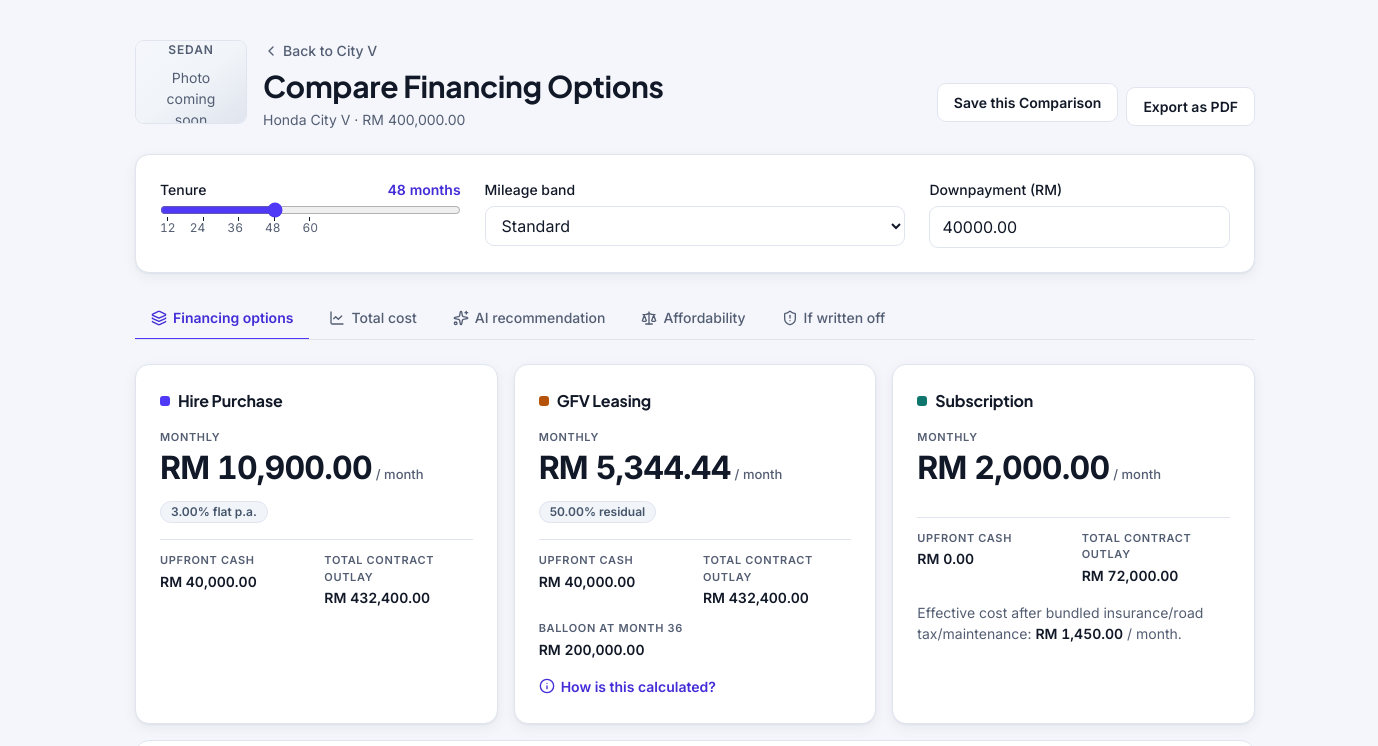
ComparisonPage › AI Recommendation tab › renders pathways in ranking order with scores/DSR badges and highlights the recommended one
Click the tab "AI recommendation" at {"x": 529, "y": 318}, box [437,297,622,340]
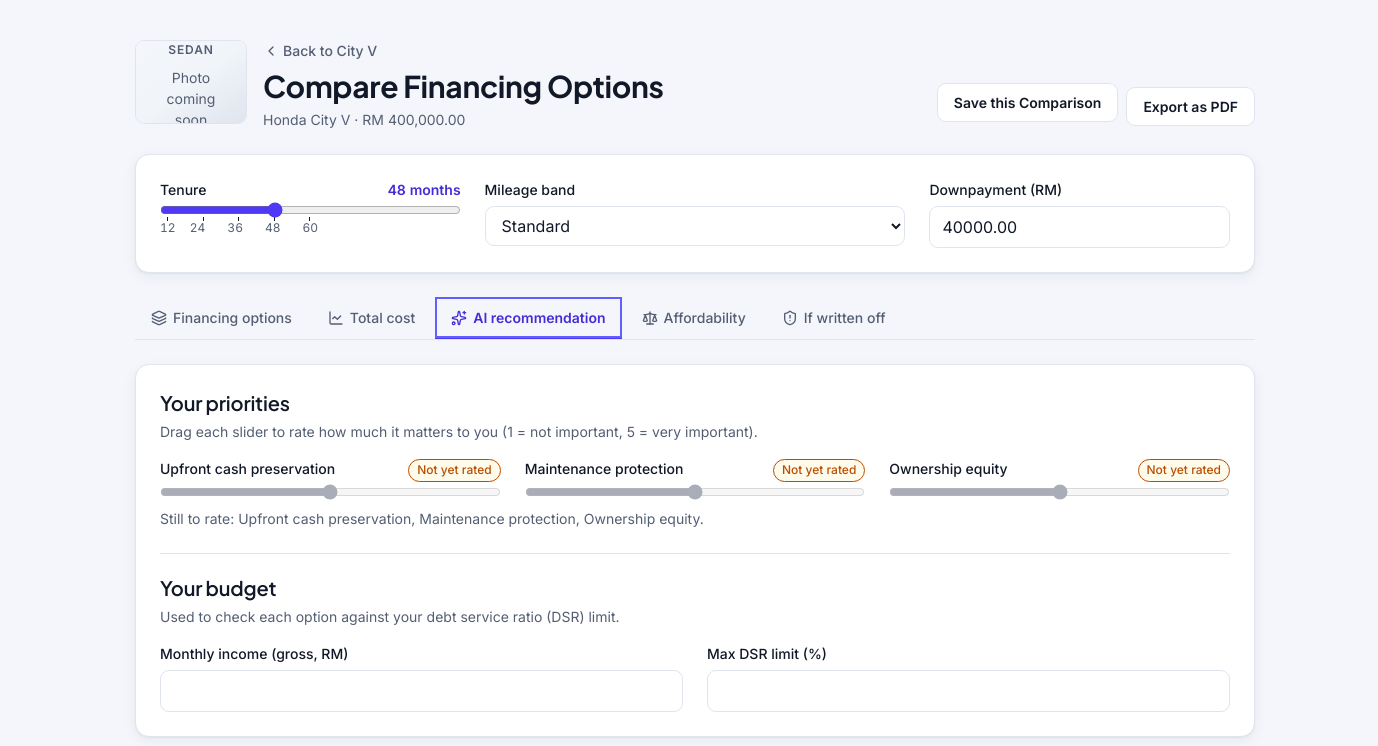
Set the slider labelled "Upfront cash preservation" to "5" at {"x": 493, "y": 492}, box [160,488,501,496]
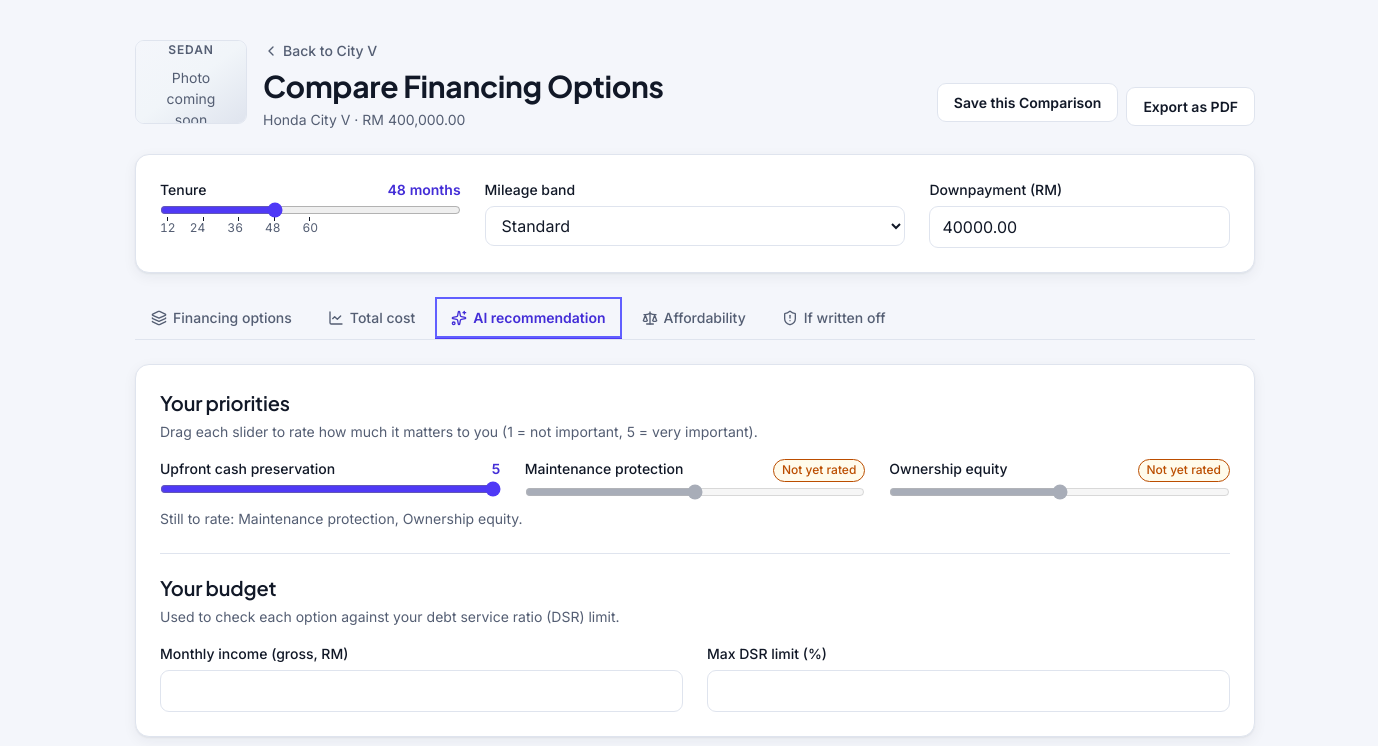
Set the slider labelled "Maintenance protection" to "4" at {"x": 776, "y": 492}, box [525,488,865,496]
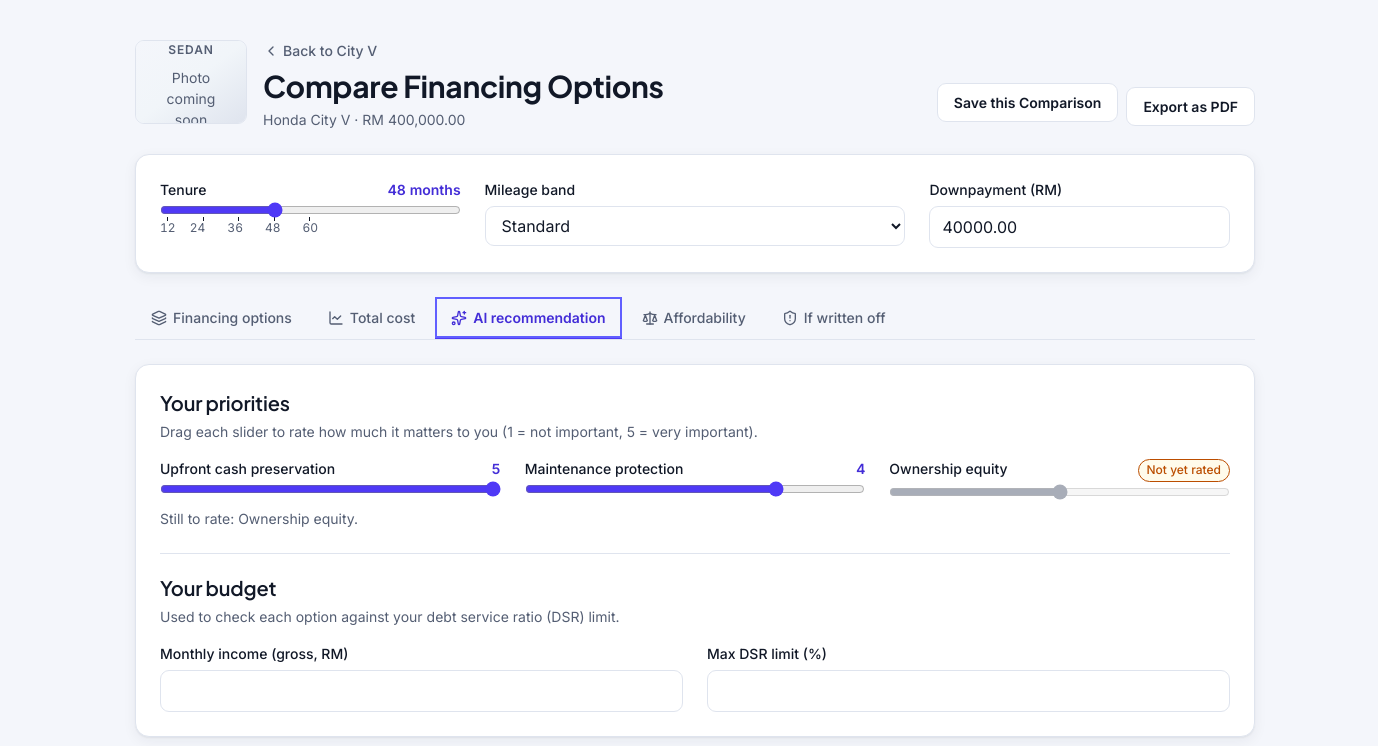
Set the slider labelled "Ownership equity" to "2" at {"x": 978, "y": 492}, box [889,488,1230,496]
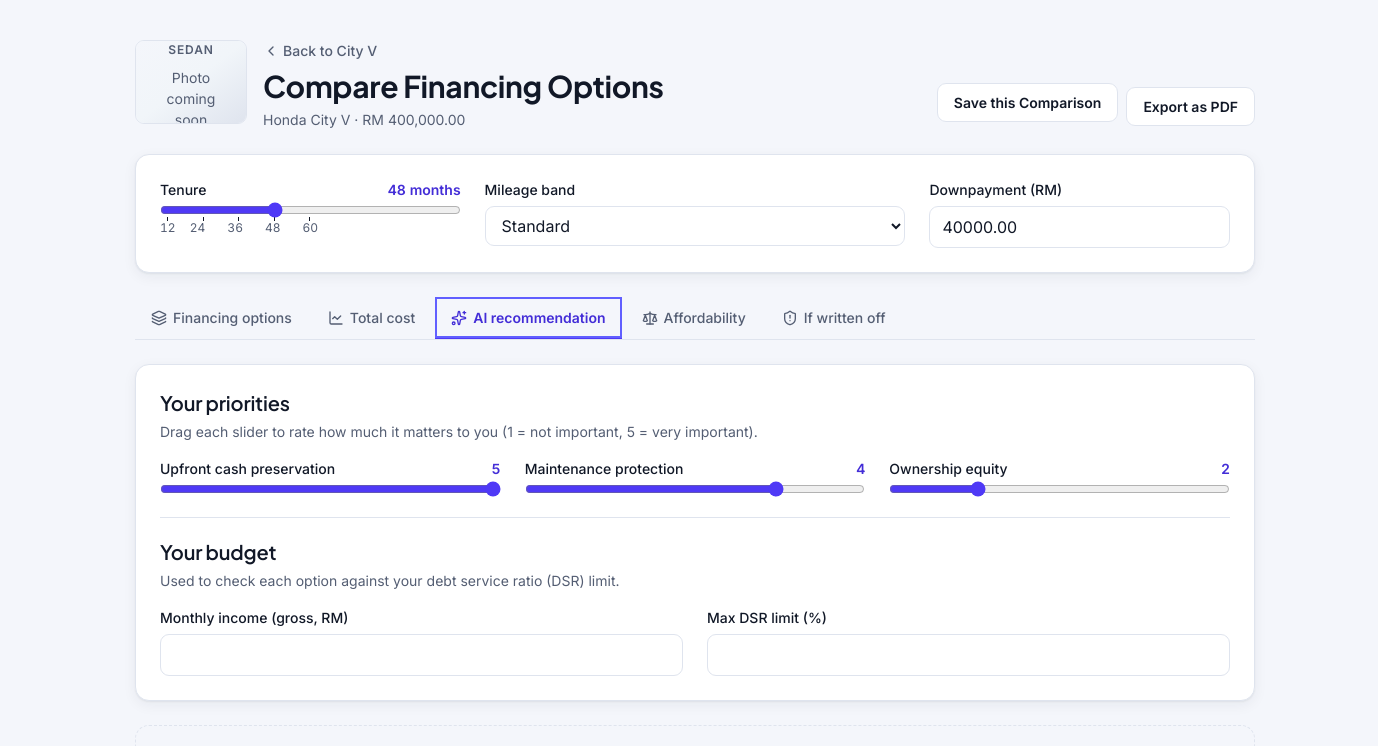
Type "8000" into the number field labelled "Monthly income (gross, RM)" at {"x": 422, "y": 655}, box [160,634,683,676]
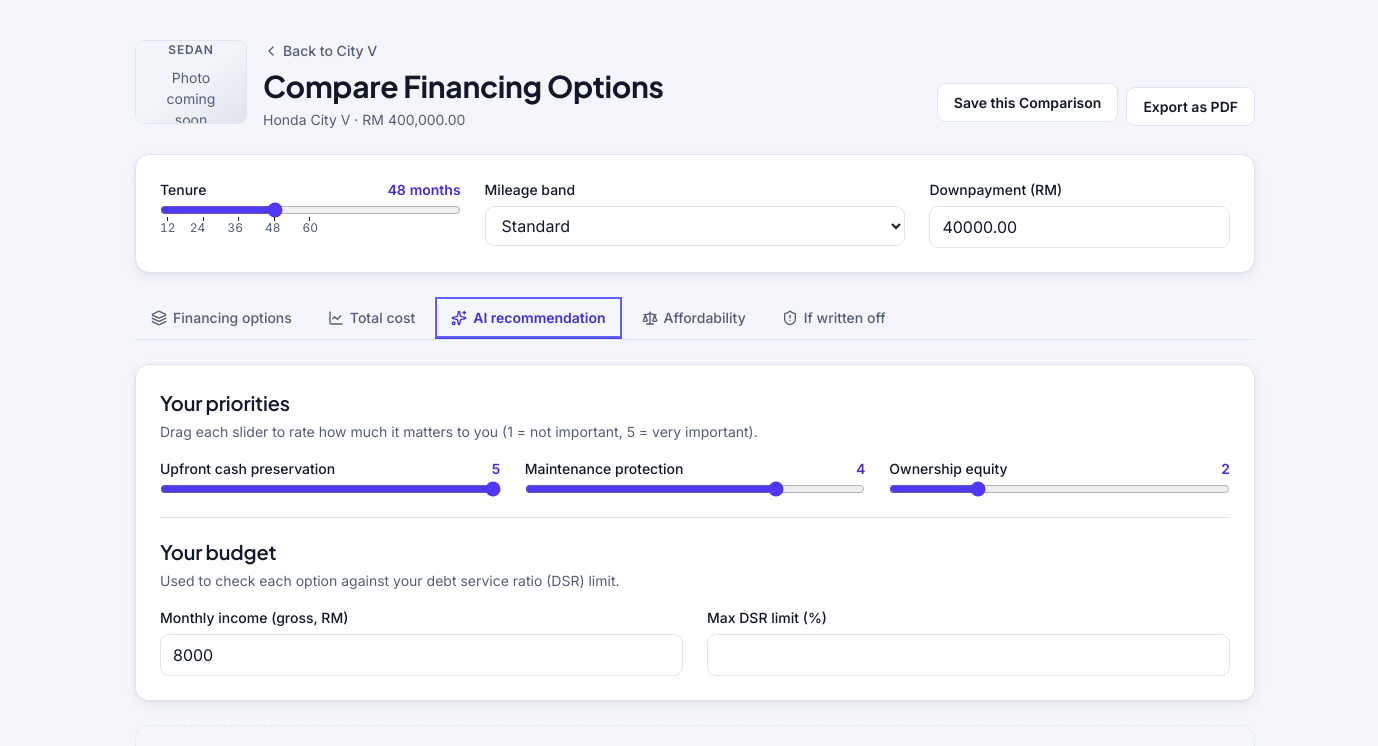
Type "60" into the number field labelled "Max DSR limit (%)" at {"x": 968, "y": 655}, box [707,634,1230,676]
(page scrolled)
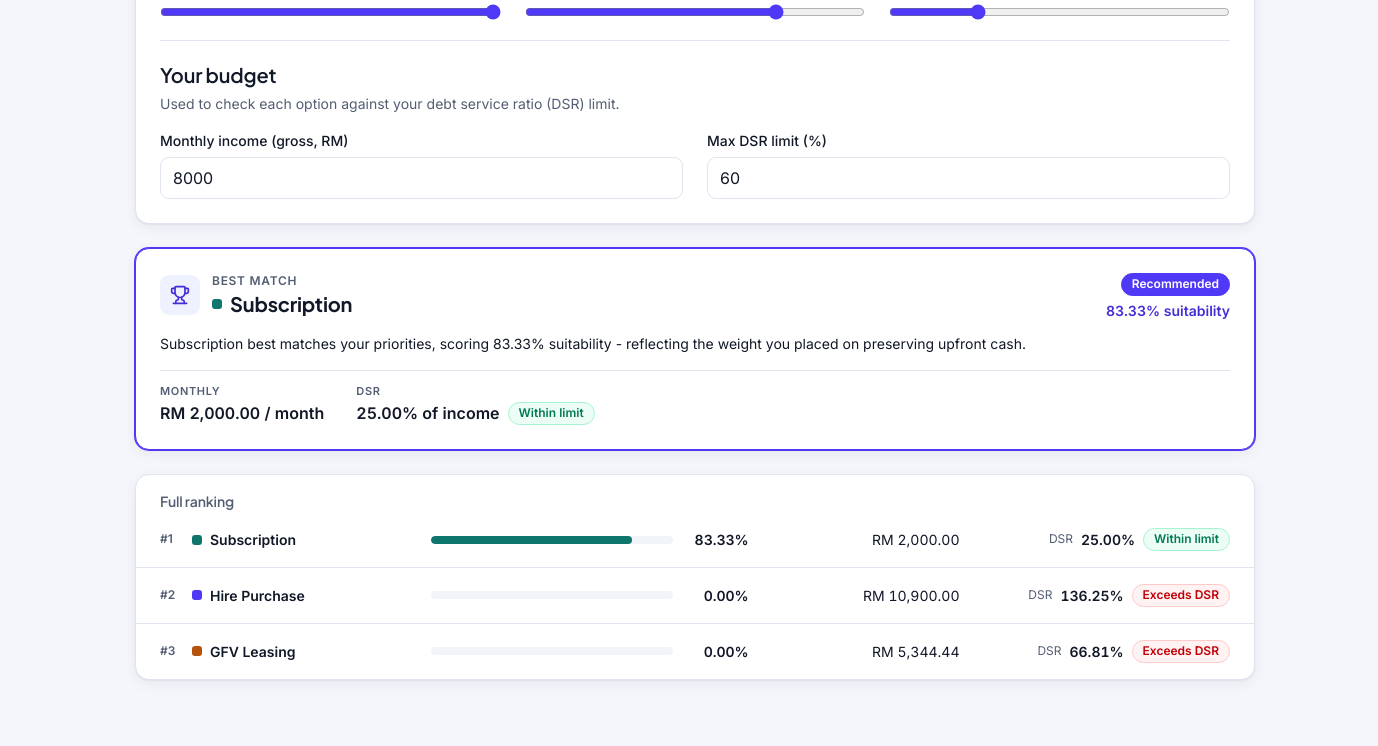
Check: the text "Subscription best matches your priorities" is shown, box [160,335,1026,352]
Check: the heading "Subscription" is shown, box [212,290,352,318]
Check: the text "Recommended" is shown, box [1121,273,1230,296]
